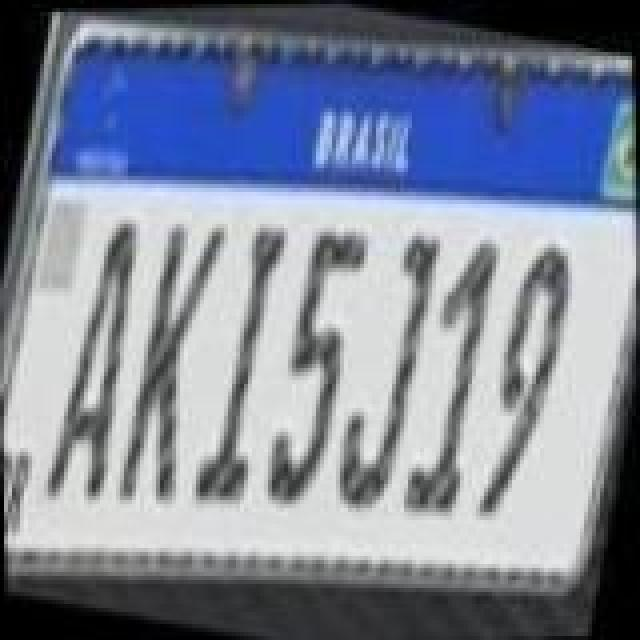1: (390, 226, 514, 522)
5: (248, 218, 376, 514)
9: (464, 226, 592, 526)
A: (32, 210, 160, 510)
I: (178, 212, 302, 508)
J: (318, 218, 450, 518)
K: (102, 210, 234, 514)
